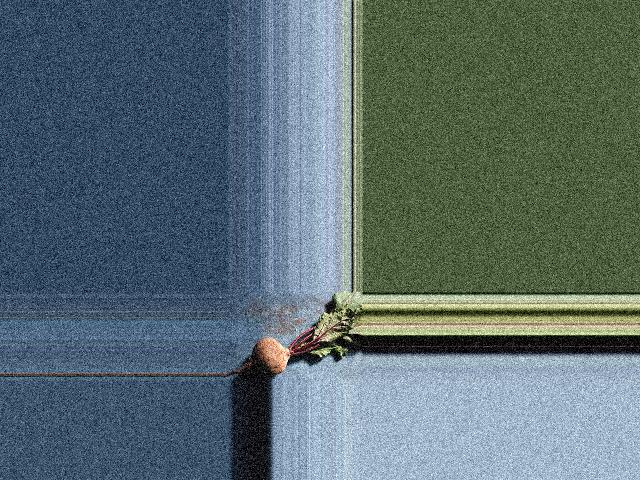beet: (227, 291, 363, 376)
